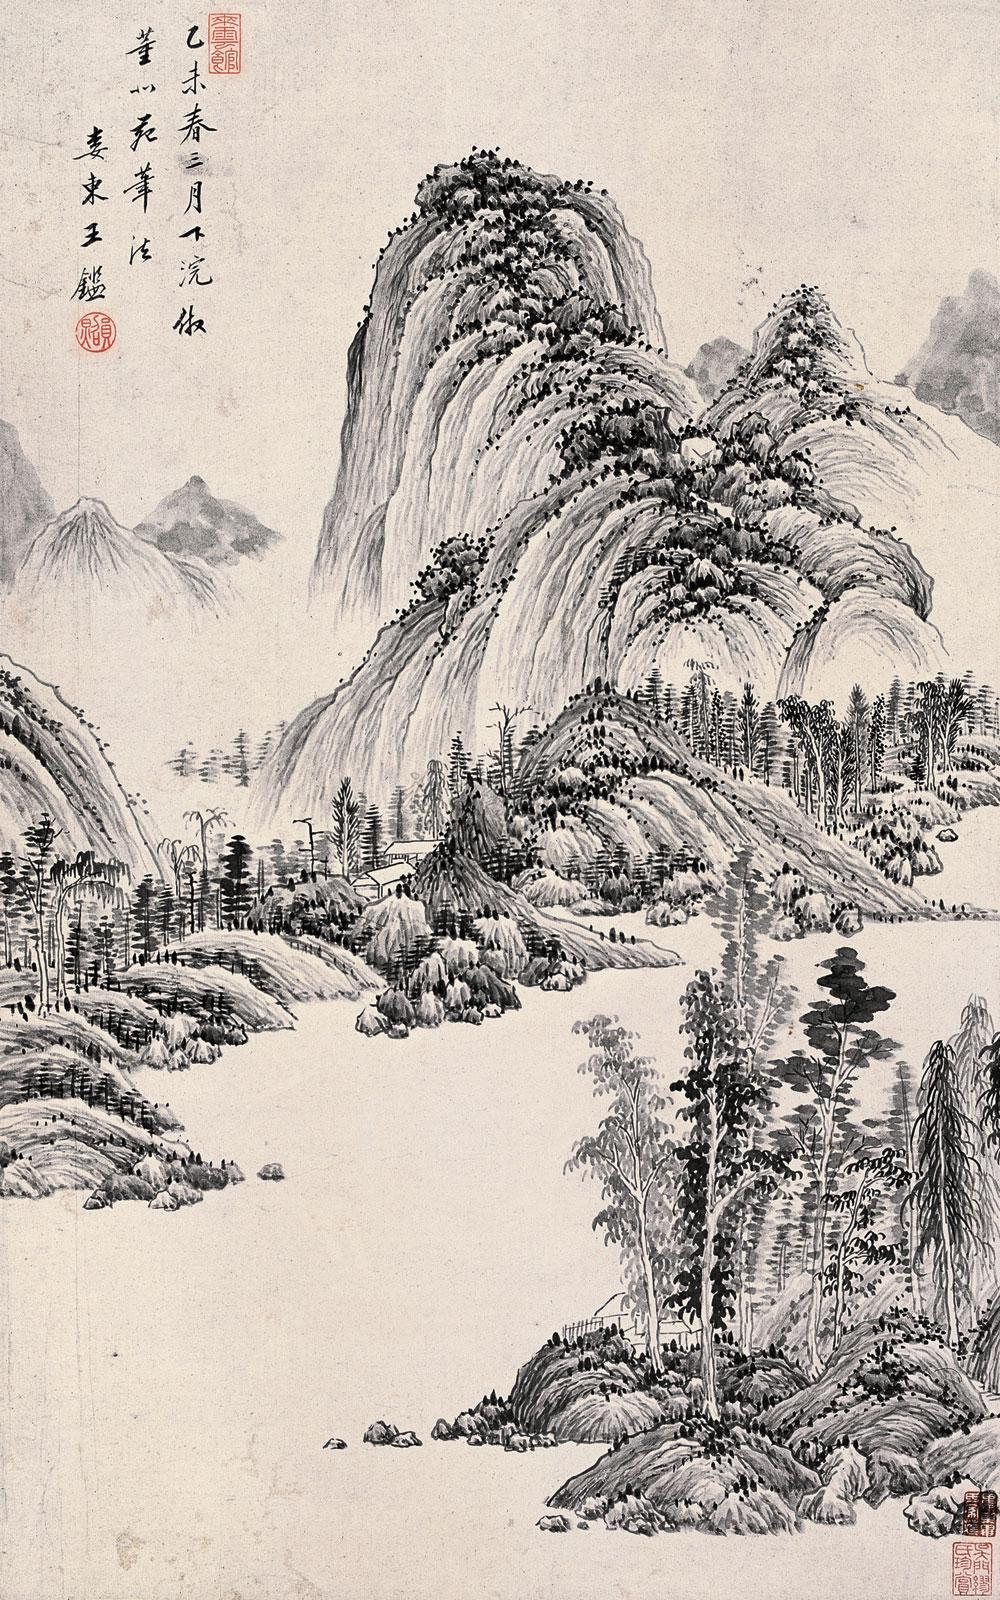hill: (5, 650, 157, 1163)
house: (349, 836, 452, 907)
mountain: (362, 166, 859, 687)
range: (7, 422, 257, 649)
river: (214, 1034, 559, 1588)
tree: (603, 964, 998, 1345), (13, 835, 147, 992), (679, 690, 909, 772), (161, 848, 306, 920)
